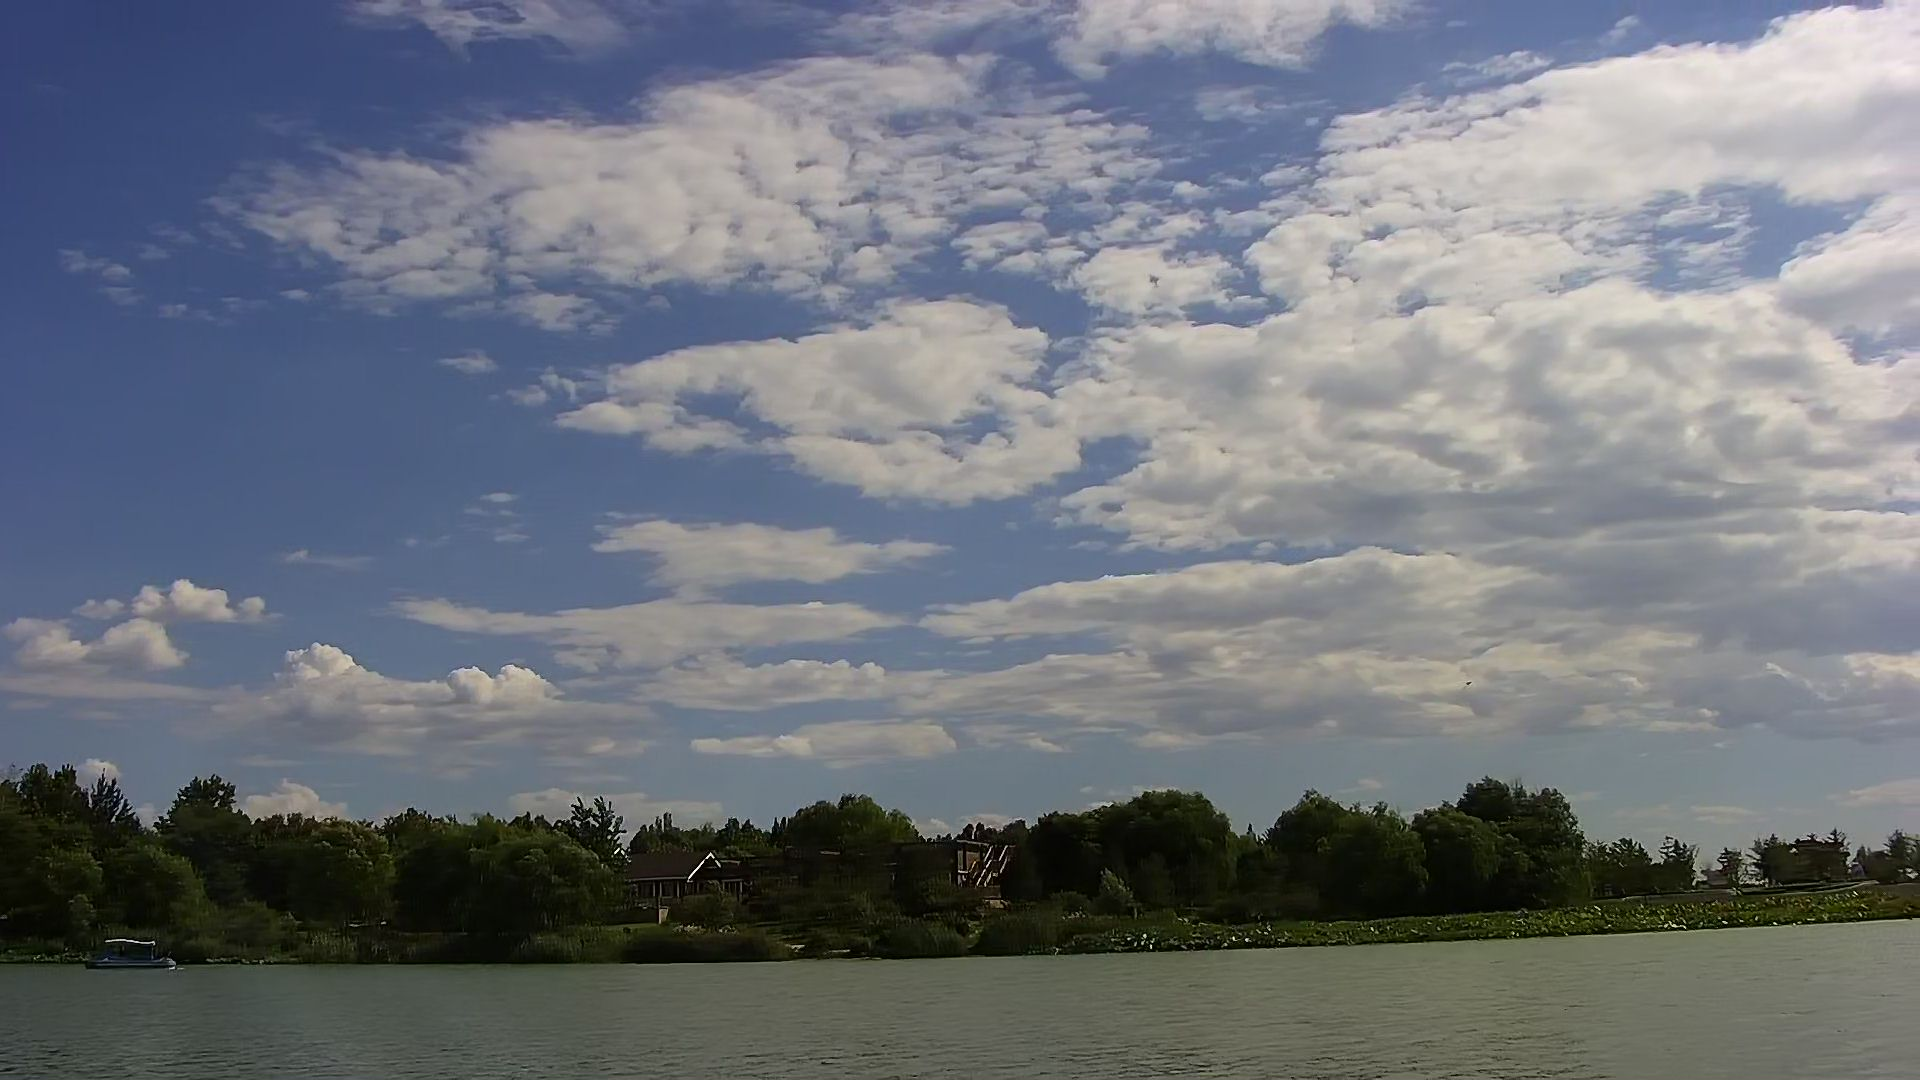boat: (78, 934, 187, 977)
